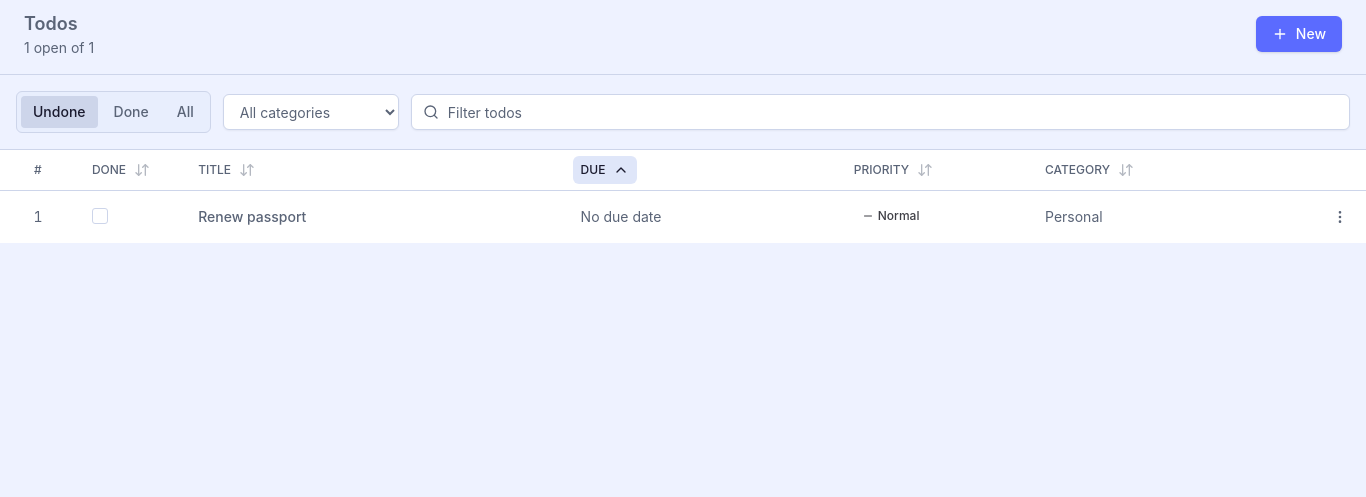
Test: TodosListView toggle integration › toggles done in the UI even when getVault returns an empty projection
The width and height of the screenshot is (1366, 497).
Click the checkbox named "toggle renew passport": (100, 216) [92,208,108,224]
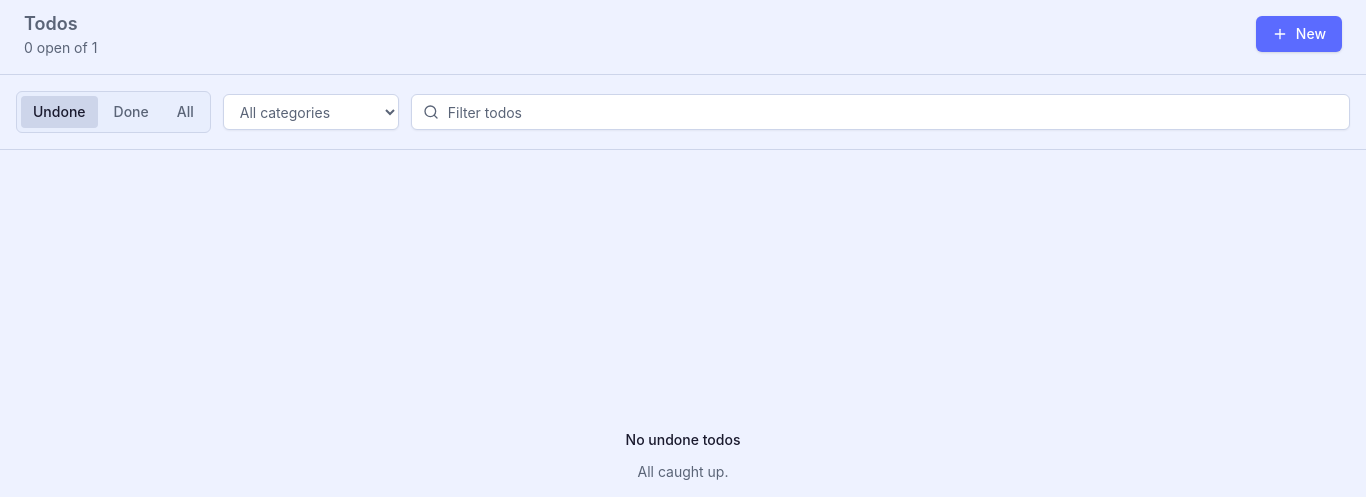
Now the text "No undone todos" is shown, box [626,430,740,450]
